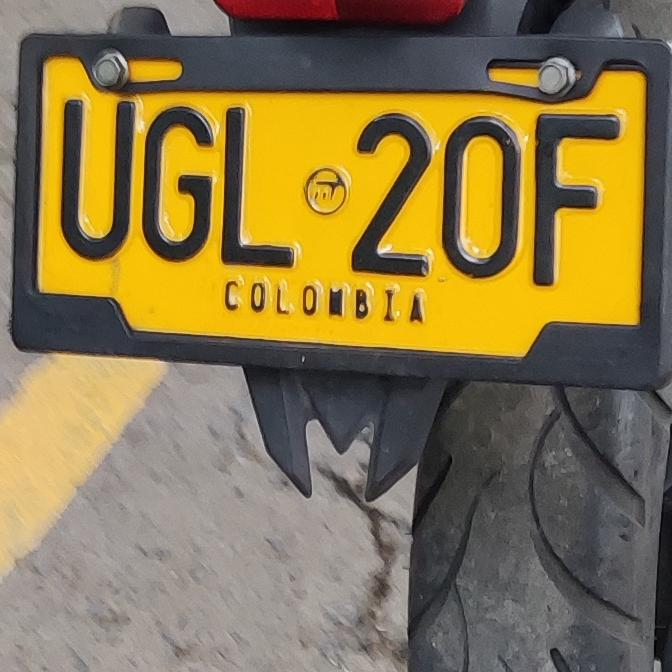plates: (22, 40, 656, 374)
